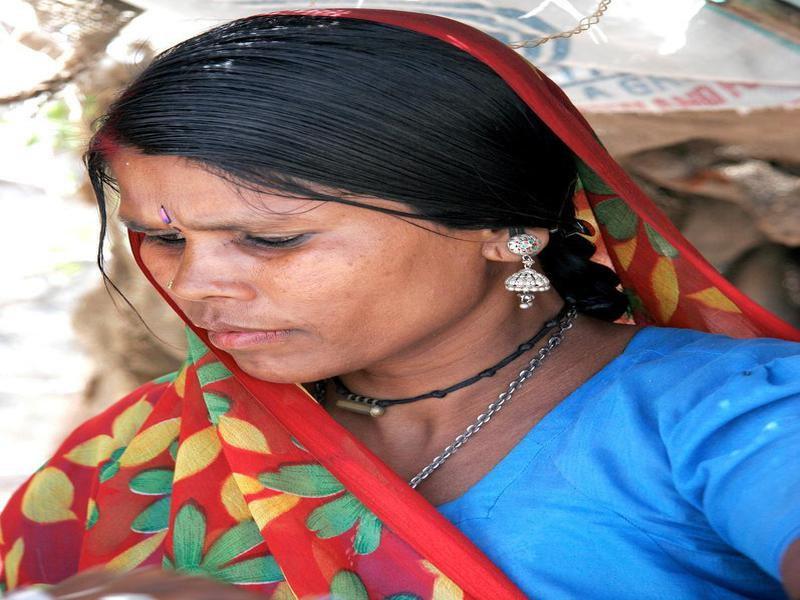person: (28, 5, 800, 599)
